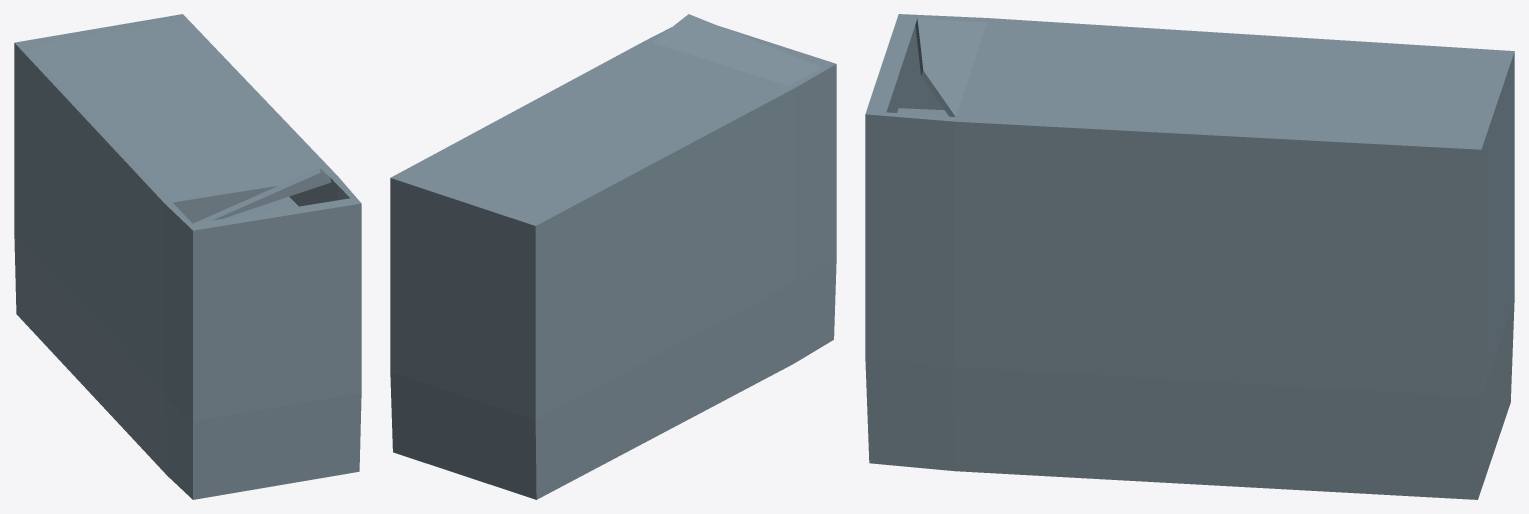
File: powder2.fbx
3 renders of one model, left to right at view 1: azimuth 30°, elevation 25°; view 2: azimuth 150°, elevation 25°; view 3: azimuth 270°, elevation 25°, orthographic. The views are drawn at different scales.
Parts seen in each view (by area): view 1: Box; view 2: Box; view 3: Box.
Boxes of the visible parts, x1=… form: Box: x1=14, y1=14, x2=361, y2=499; Box: x1=390, y1=14, x2=836, y2=499; Box: x1=865, y1=14, x2=1514, y2=499.
Bounding box in the file's own units: 0.1297 × 0.1706 × 0.2622.
